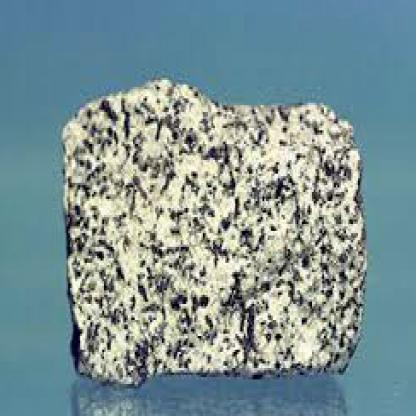Igneous_Diorite: (66, 68, 366, 382)
